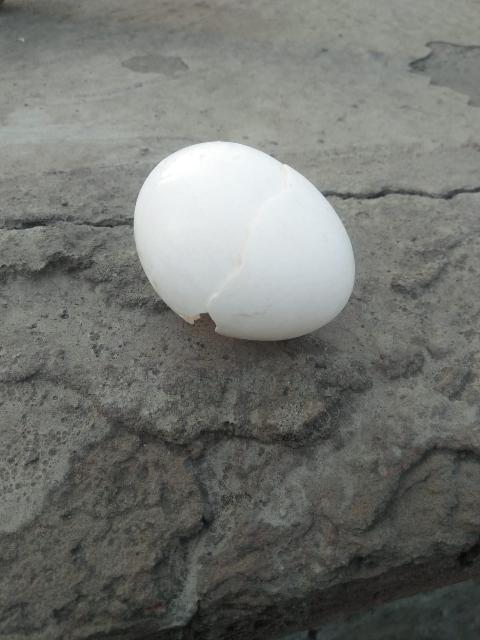Roto: (132, 139, 356, 342)
